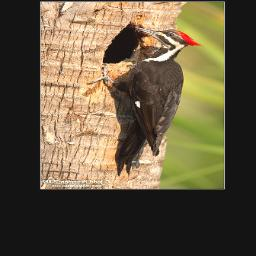Woodpecker: (86, 26, 204, 177)
